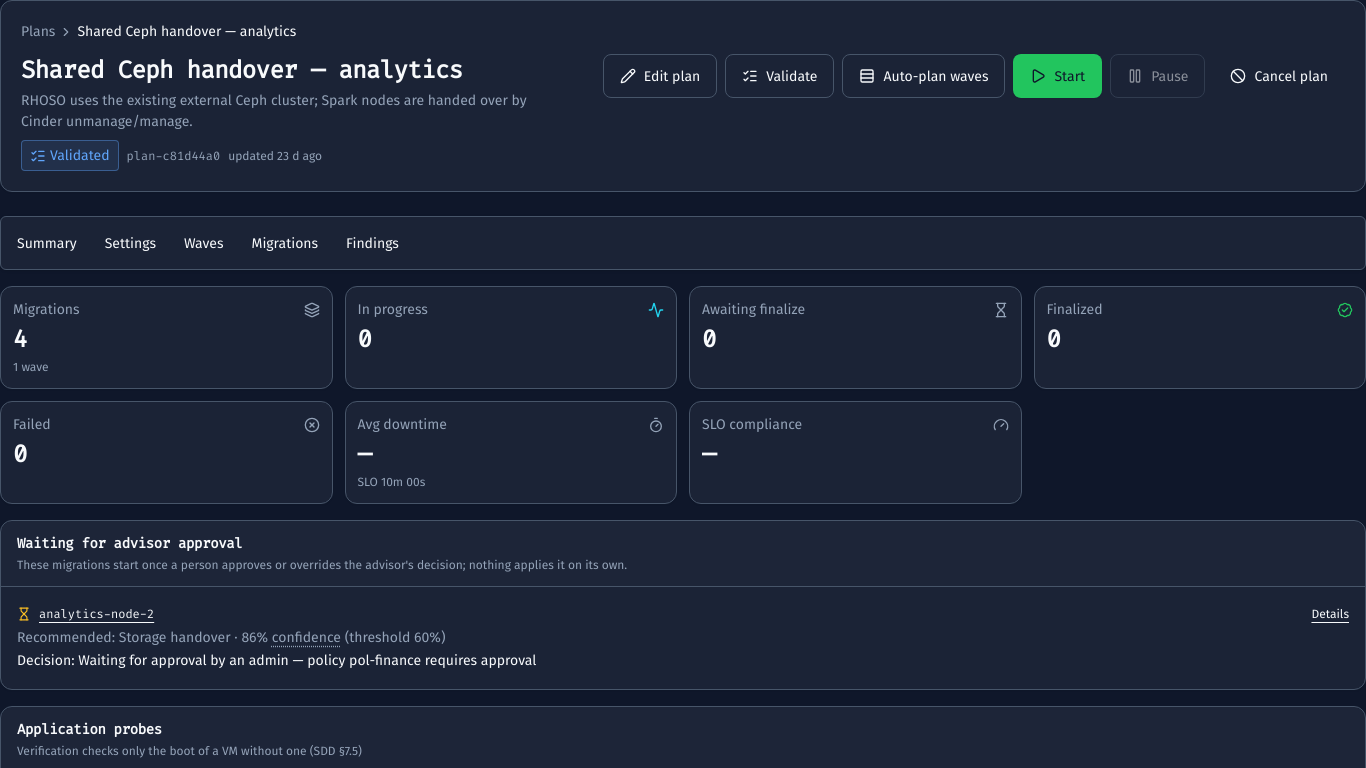
Test: PlanDetail › never names the plan being edited as holding its own VMs in the VM picker (SDD §16)
The width and height of the screenshot is (1366, 768).
Step 1. Click the button "Edit plan" → [660, 76], box left=603, top=54, right=717, bottom=98
(page scrolled)
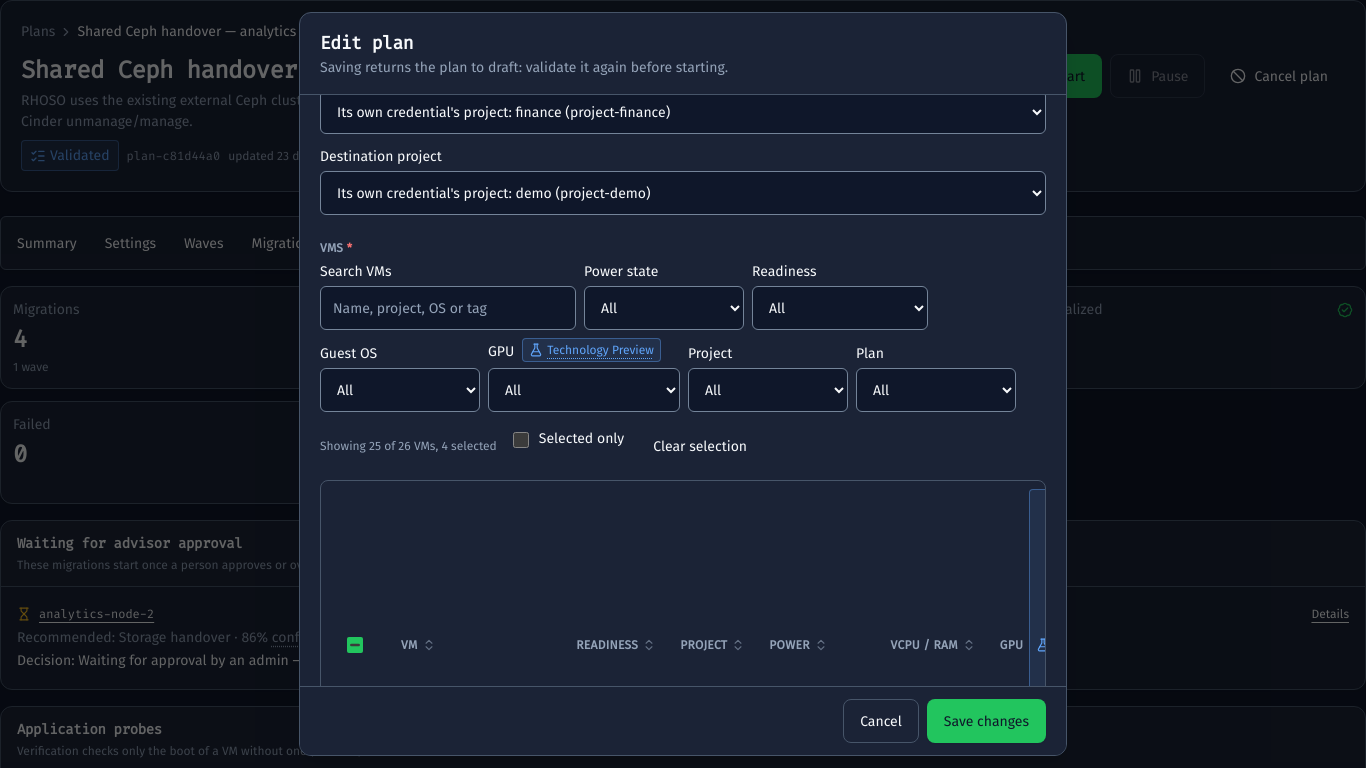
Result: the dropdown labelled "Plan" is shown at left=856, top=368, right=1016, bottom=412
